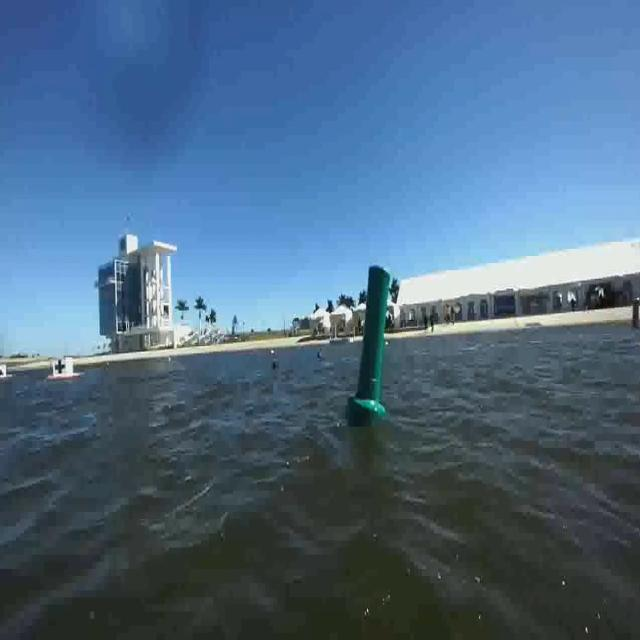green-column-buoy: (348, 262, 391, 426)
